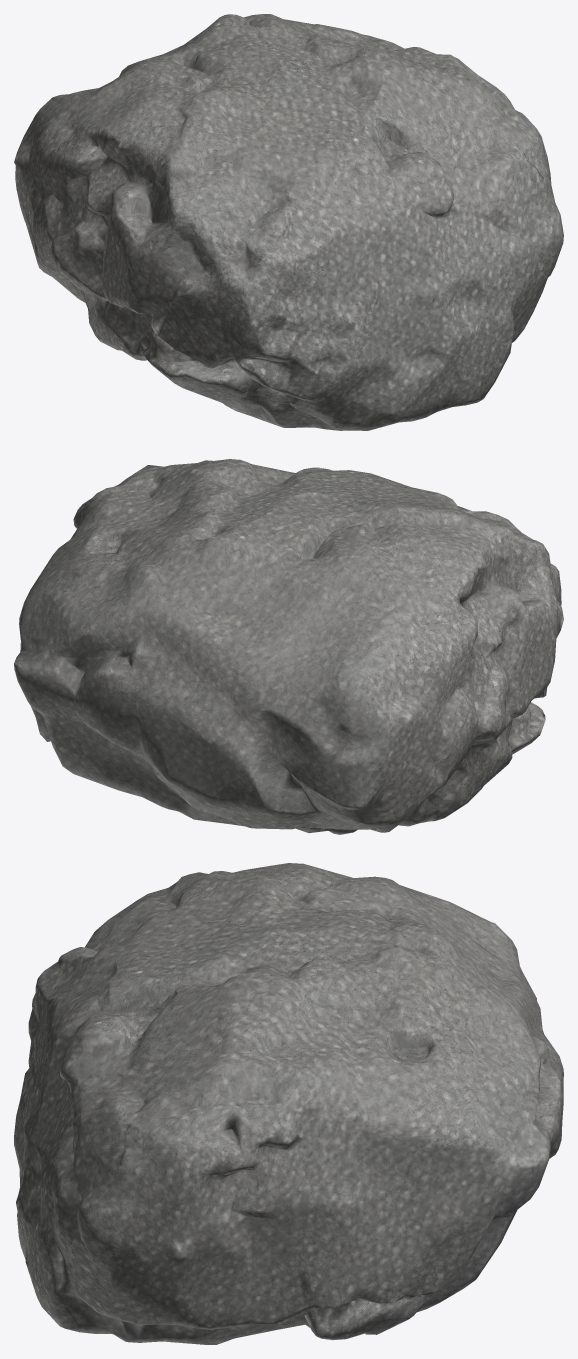
File: boulder.glb
The picture shows the model from 3 angles, top to bottom: view 1: azimuth 30°, elevation 25°; view 2: azimuth 150°, elevation 25°; view 3: azimuth 270°, elevation 25°; orthographic projection. The views are drawn at different scales.
Bounding box in the file's own units: 1.9 × 1.27 × 1.78.
Materials: 1 (1 with a texture image).
